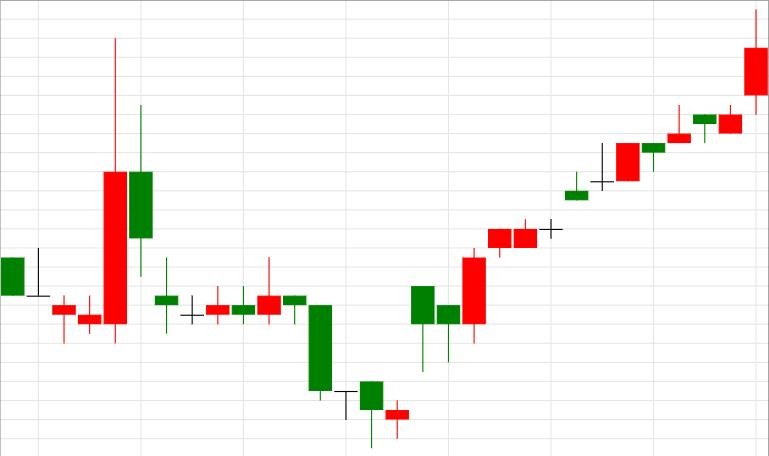hammer_rise: (129, 104, 383, 448)
